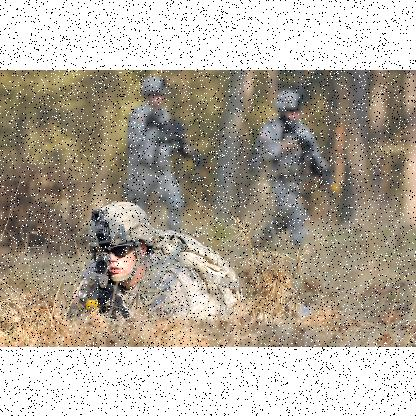gun: (76, 206, 132, 328)
